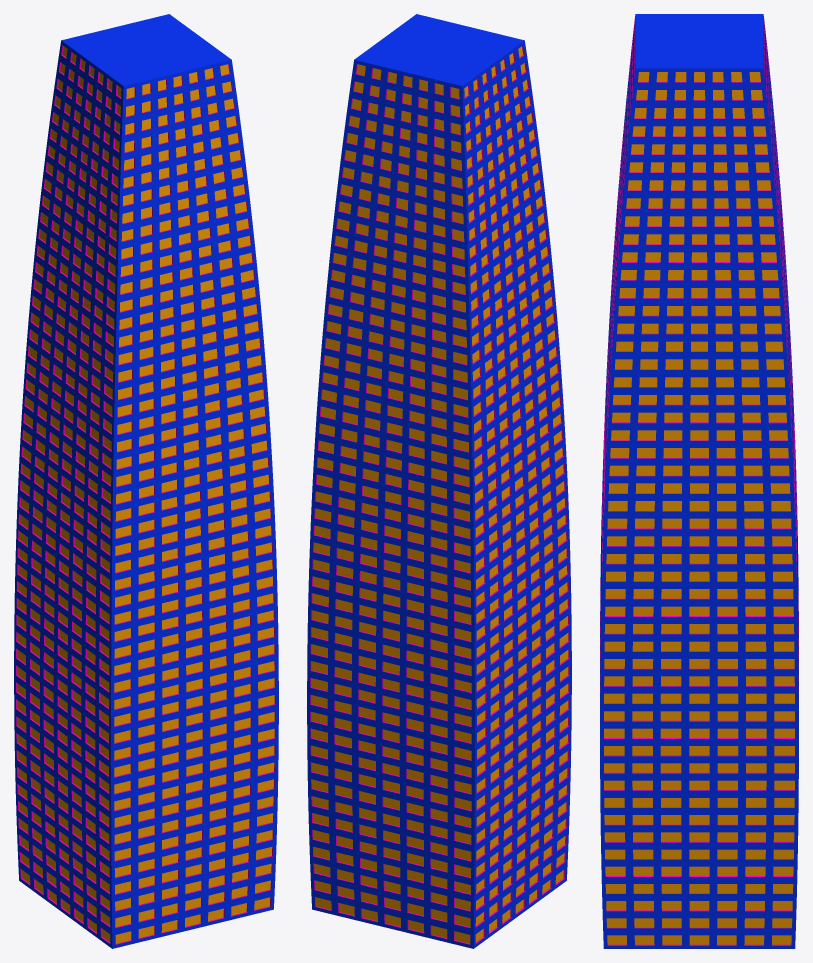
File: edificio1.FBX
3 views of the same model, side by side, from view 1: azimuth 30°, elevation 25°; view 2: azimuth 150°, elevation 25°; view 3: azimuth 270°, elevation 25° (orthographic). The views are drawn at different scales.
Parts seen in each view (by area): view 1: Box001; view 2: Box001; view 3: Box001.
Boxes of the visible parts, x1,y1,x2,y2 form: Box001: (14, 14, 278, 948); Box001: (307, 14, 571, 948); Box001: (600, 14, 798, 948).
Bounding box in the file's own units: 208 × 1000 × 208.
